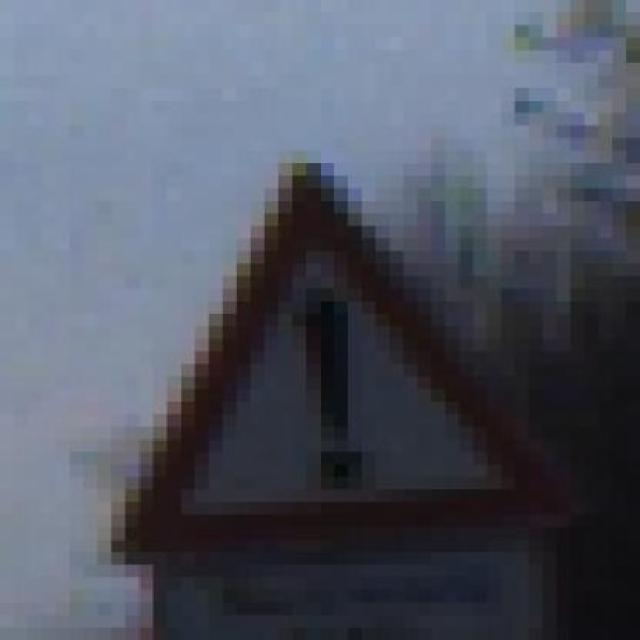Attention Please-: (56, 125, 584, 578)
